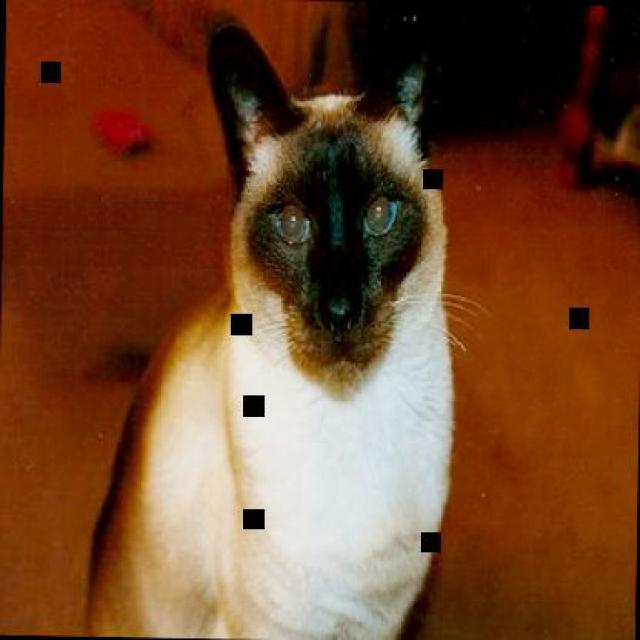cat: (83, 0, 464, 638)
